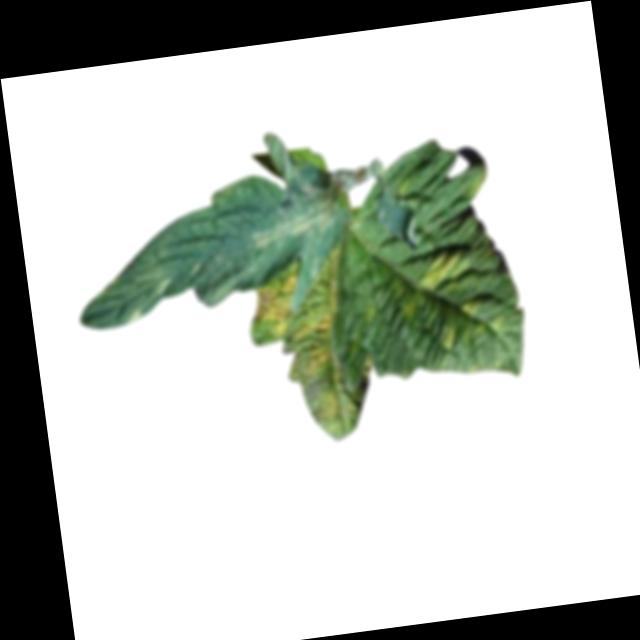Leaf_Mold: (246, 167, 350, 252), (297, 305, 350, 439), (248, 269, 306, 339), (413, 250, 470, 295), (462, 299, 488, 320)
